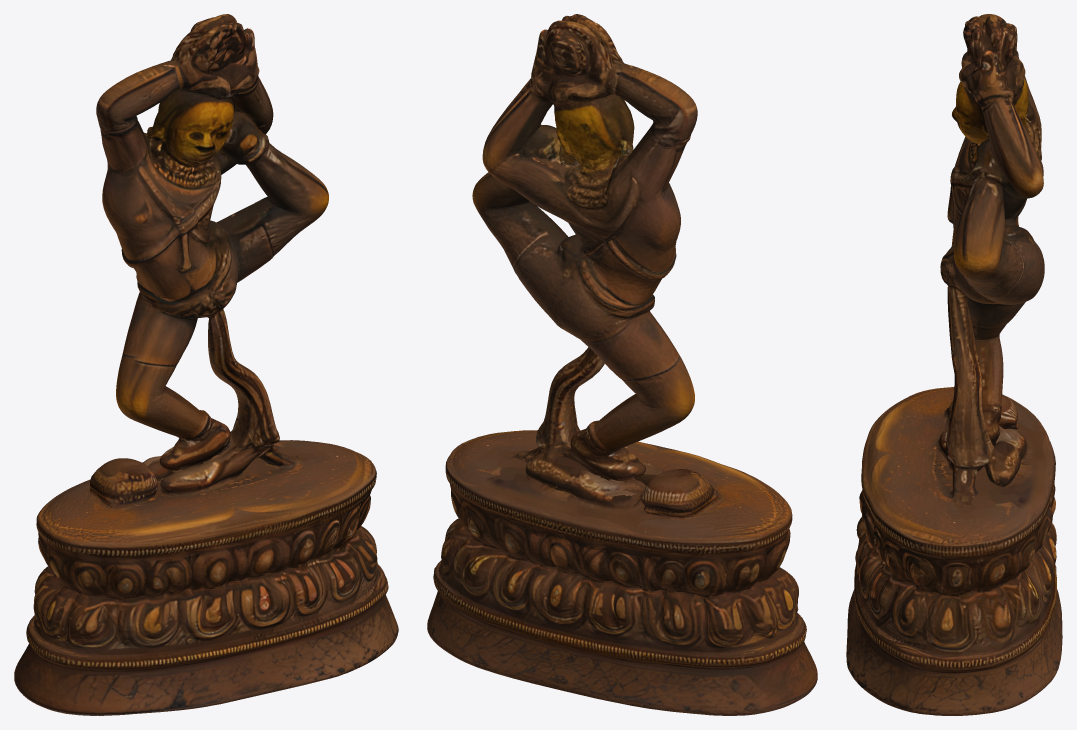
3 renders of one model, left to right at view 1: azimuth 30°, elevation 25°; view 2: azimuth 150°, elevation 25°; view 3: azimuth 270°, elevation 25°, orthographic. The views are drawn at different scales.
Parts seen in each view (by area): view 1: textured_mesh; view 2: textured_mesh; view 3: textured_mesh.
Boxes of the visible parts, x1,y1,x2,y2 form: textured_mesh: (14, 14, 398, 715); textured_mesh: (427, 14, 817, 715); textured_mesh: (846, 14, 1062, 715).
Size of the model in its own units: 1.2 by 1.99 by 0.624.
Materials: 1 (1 with a texture image).
